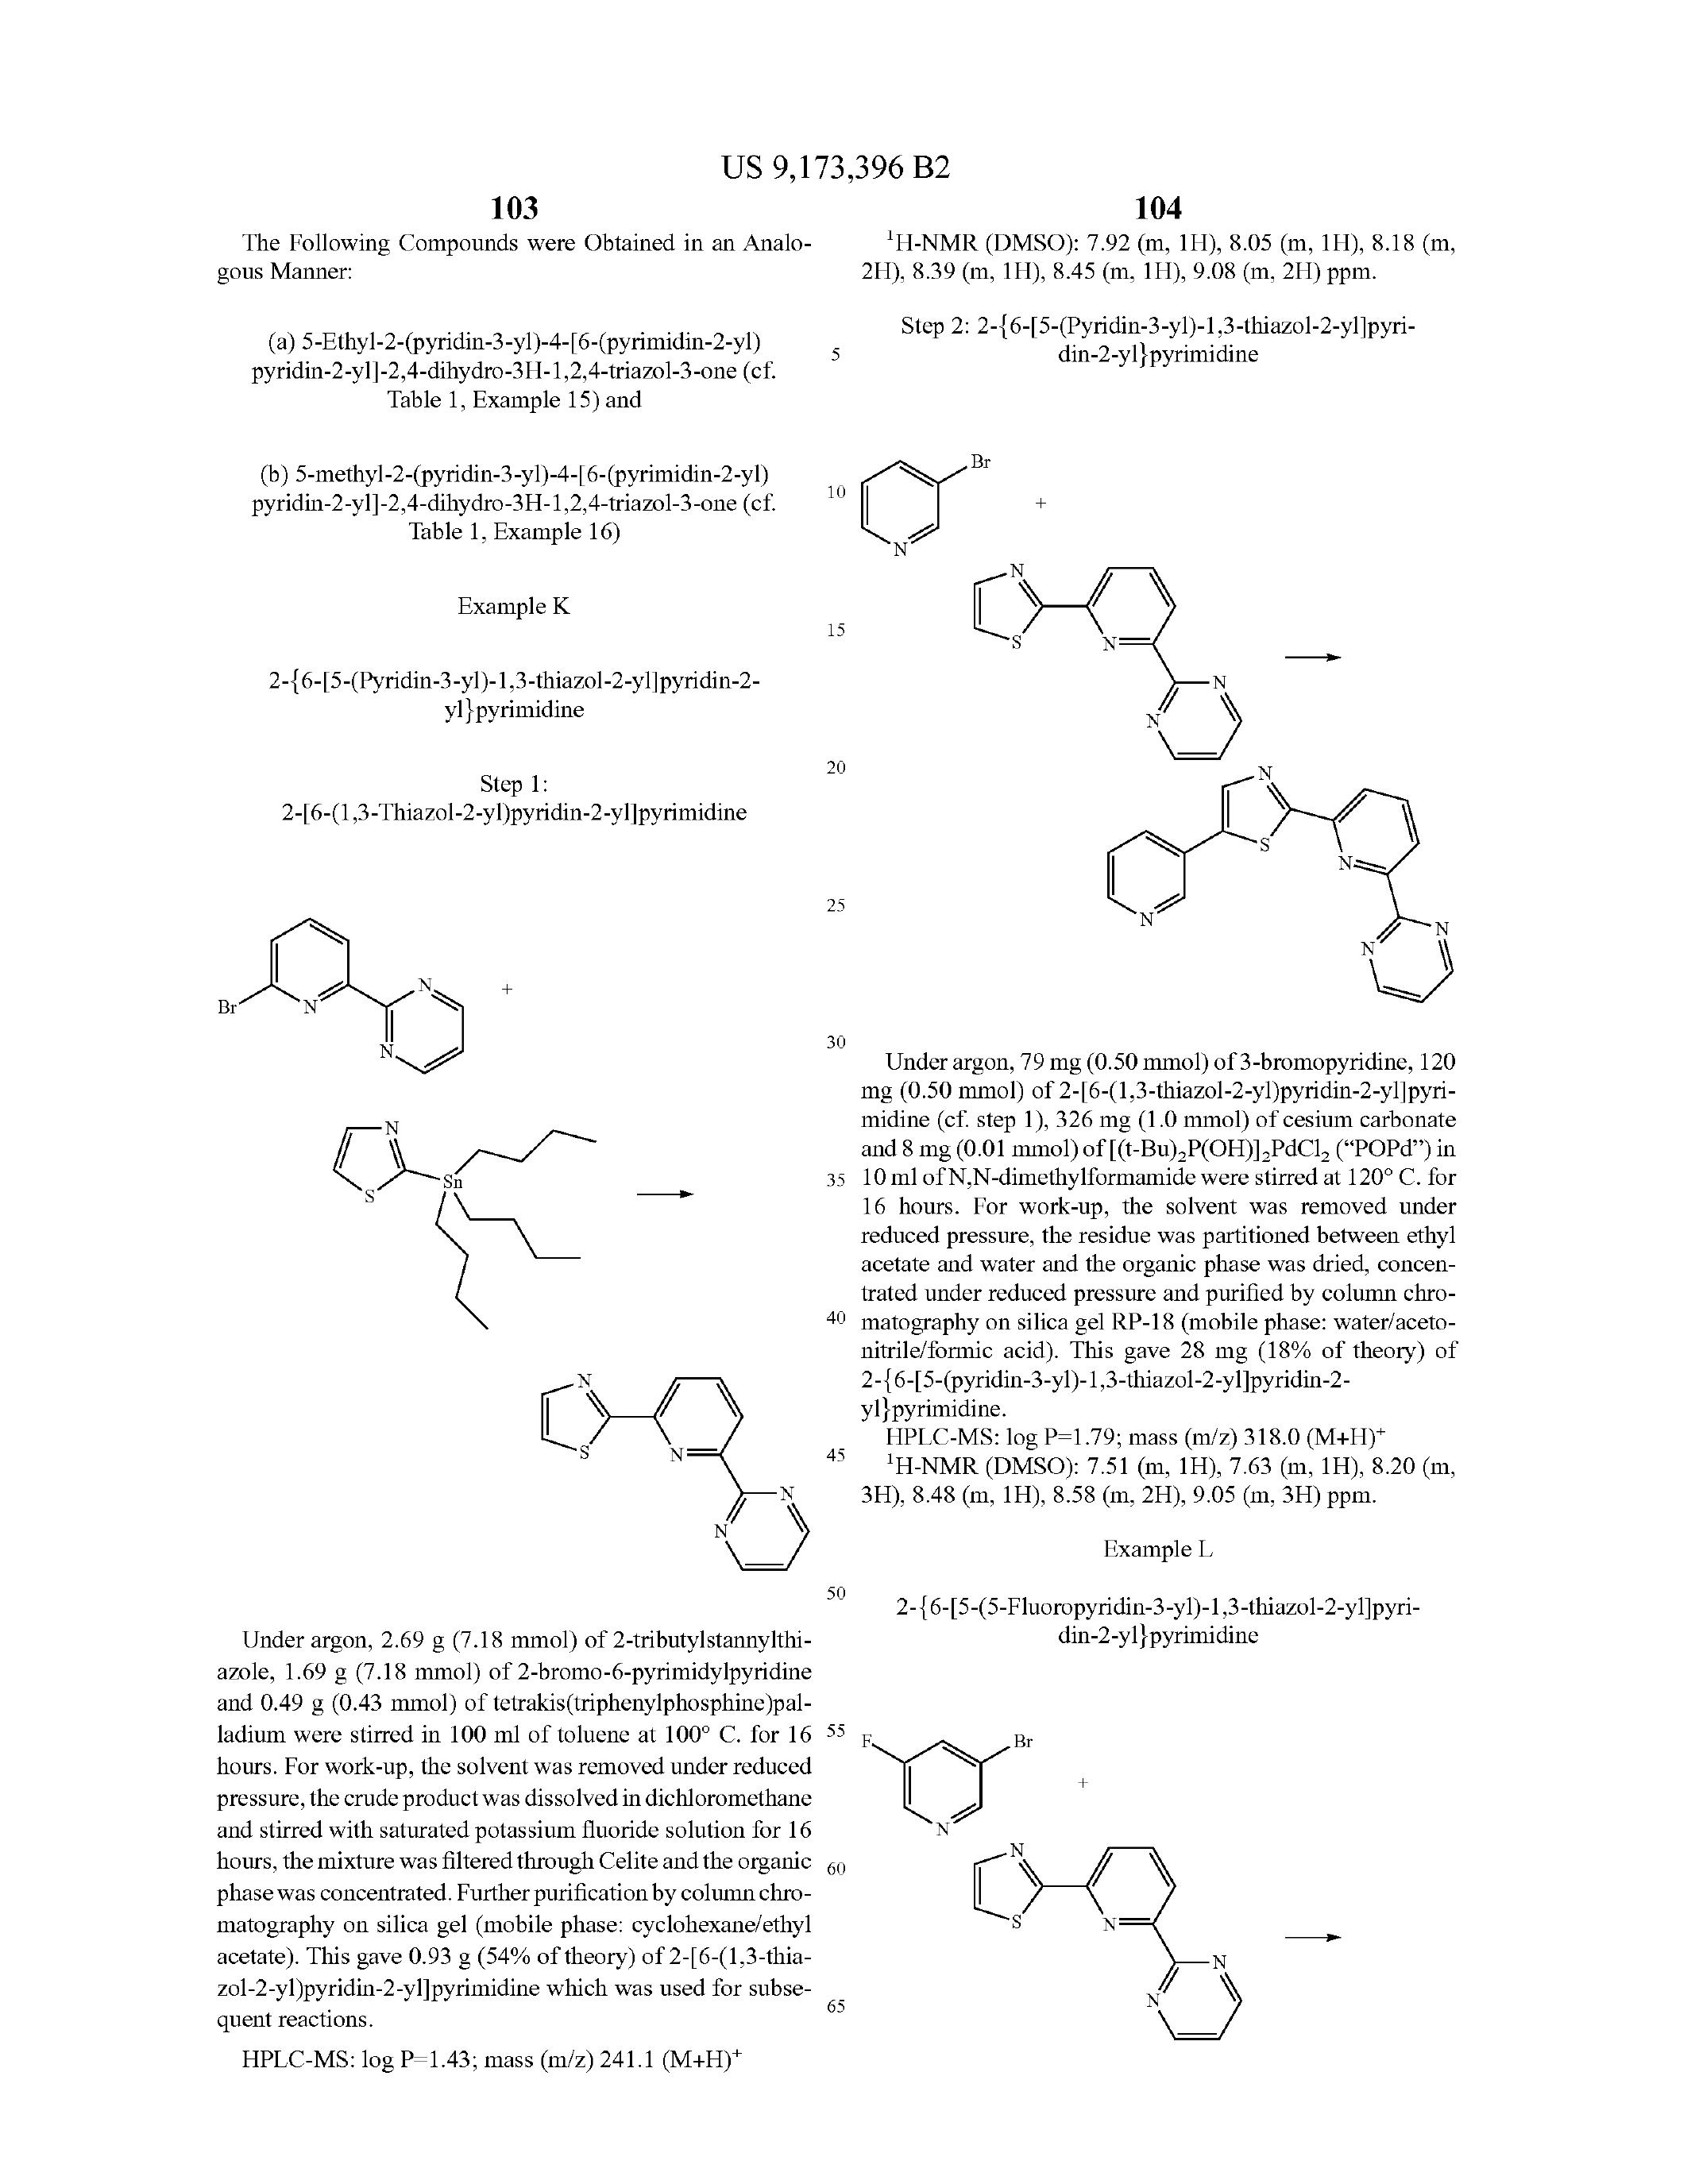intermediates: (493, 1347, 833, 1583)
